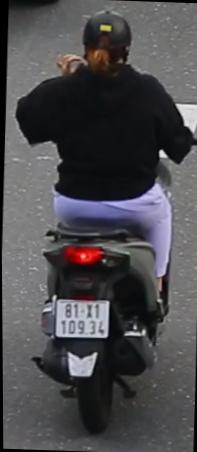LP: (52, 294, 112, 341)
helmet: (77, 6, 134, 76)
